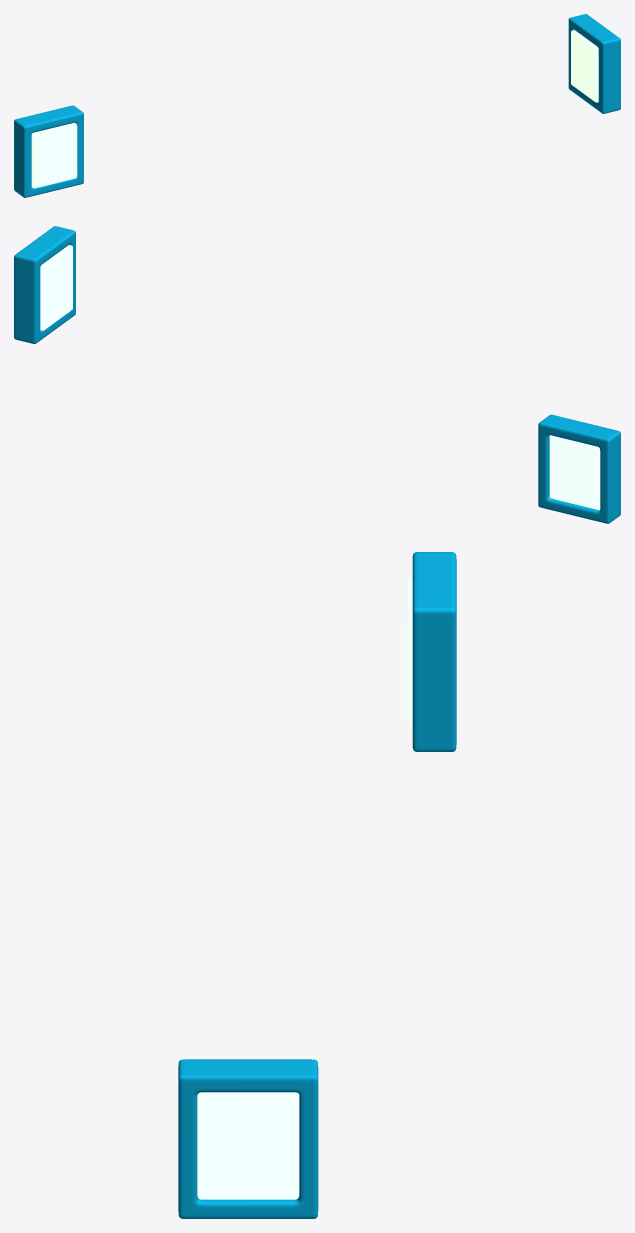
File: SM_Clay_Window_05.fbx
3 renders of one model, top to bottom at view 1: azimuth 30°, elevation 25°; view 2: azimuth 150°, elevation 25°; view 3: azimuth 270°, elevation 25°, orthographic. The views are drawn at different scales.
Parts seen in each view (by area): view 1: SM_Clay_Window_05; view 2: SM_Clay_Window_05; view 3: SM_Clay_Window_05.
Boxes of the visible parts, left/top/right/bottom form: SM_Clay_Window_05: left=14, top=14, right=620, bottom=197; SM_Clay_Window_05: left=14, top=226, right=620, bottom=523; SM_Clay_Window_05: left=178, top=552, right=456, bottom=1218.
Bounding box in the file's own units: 6.53 × 0.832 × 1.46.
